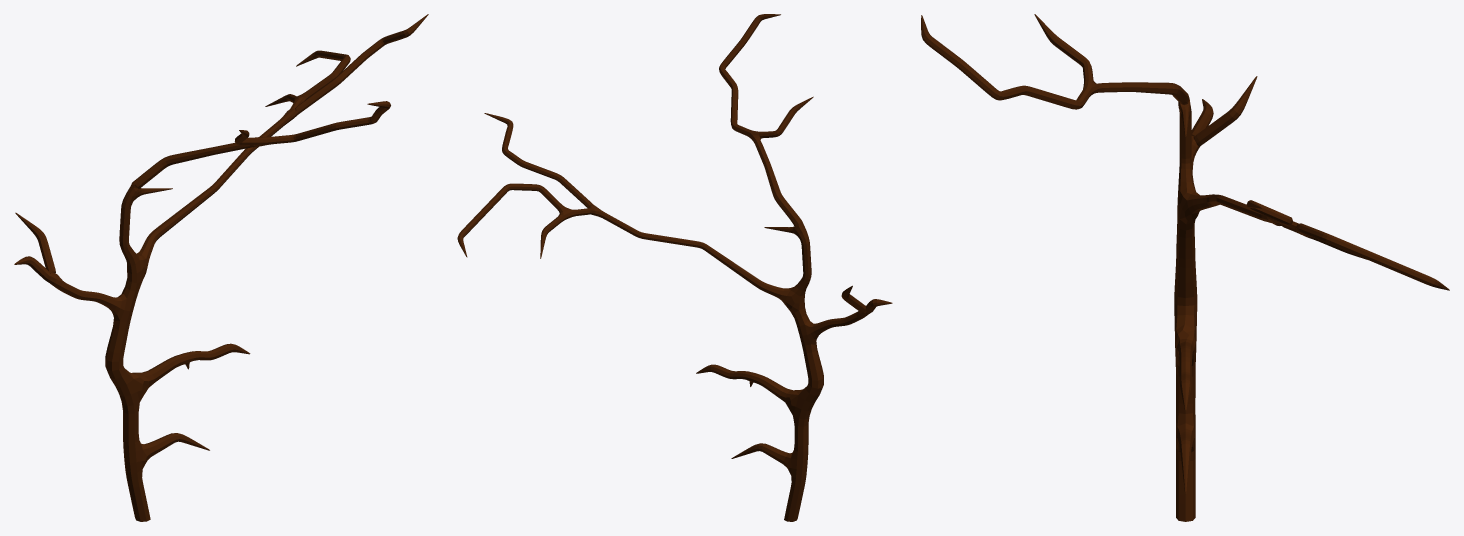
File: Tree2.fbx
The picture shows the model from 3 angles, left to right: view 1: azimuth 30°, elevation 25°; view 2: azimuth 150°, elevation 25°; view 3: azimuth 270°, elevation 25°; orthographic projection. The views are drawn at different scales.
Visible parts, largest first — view 1: Vert.003; view 2: Vert.003; view 3: Vert.003.
Part boxes in pixels (x1,y1,x2,y2): Vert.003: (14, 14, 428, 521); Vert.003: (457, 14, 892, 521); Vert.003: (921, 14, 1449, 521).
Size of the model in its own units: 2399 by 2428 by 2027.
